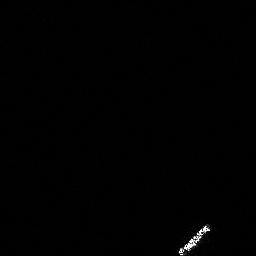ship: (178, 224, 211, 255)
